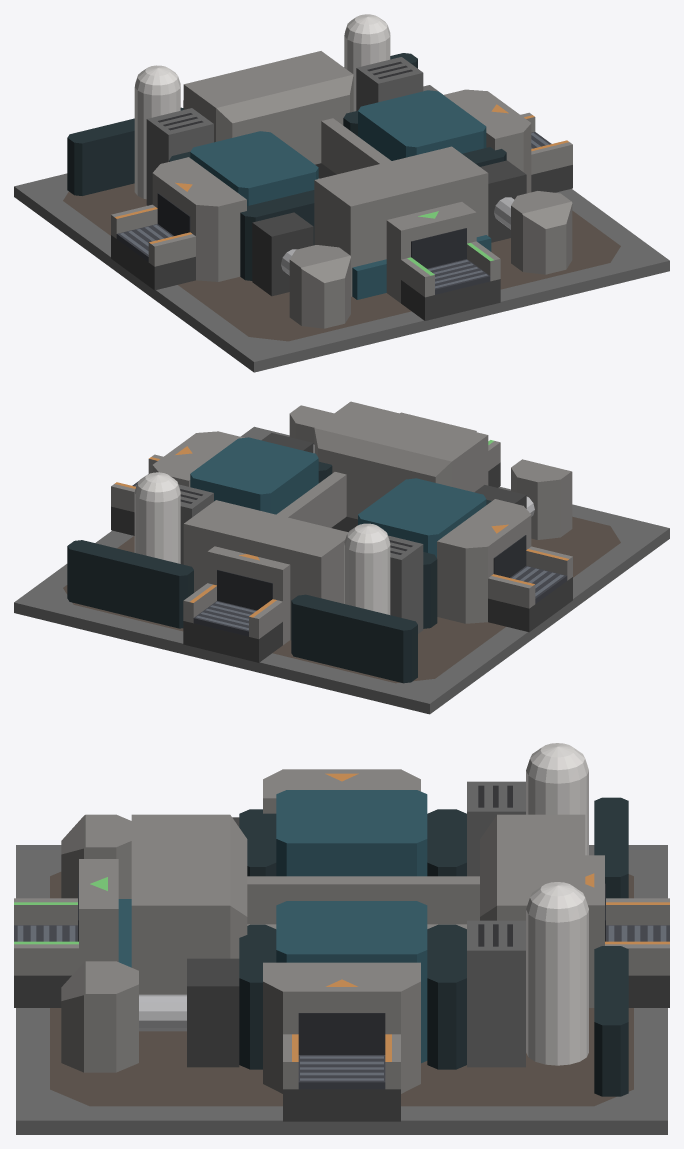
File: vfef_machining_bay.obj
3 renders of one model, top to bottom at view 1: azimuth 30°, elevation 25°; view 2: azimuth 150°, elevation 25°; view 3: azimuth 270°, elevation 25°, orthographic. The views are drawn at different scales.
Visible parts, largest first — view 1: vfef_machining_bay_0, vfef_machining_bay_16, vfef_machining_bay_5, vfef_machining_bay_1, vfef_machining_bay_31, vfef_machining_bay_48, vfef_machining_bay_28, vfef_machining_bay_47, vfef_machining_bay_67, vfef_machining_bay_44, vfef_machining_bay_18, vfef_machining_bay_45 (+23 smaller); view 2: vfef_machining_bay_0, vfef_machining_bay_16, vfef_machining_bay_5, vfef_machining_bay_44, vfef_machining_bay_64, vfef_machining_bay_31, vfef_machining_bay_48, vfef_machining_bay_1, vfef_machining_bay_28, vfef_machining_bay_43, vfef_machining_bay_63, vfef_machining_bay_47 (+22 smaller); view 3: vfef_machining_bay_0, vfef_machining_bay_1, vfef_machining_bay_16, vfef_machining_bay_28, vfef_machining_bay_51, vfef_machining_bay_63, vfef_machining_bay_48, vfef_machining_bay_5, vfef_machining_bay_61, vfef_machining_bay_67, vfef_machining_bay_3, vfef_machining_bay_65 (+30 smaller).
Part boxes in pixels (x1=…): vfef_machining_bay_0: x1=14, y1=85, x2=669, y2=372; vfef_machining_bay_16: x1=314, y1=146, x2=488, y2=296; vfef_machining_bay_5: x1=183, y1=51, x2=353, y2=164; vfef_machining_bay_1: x1=63, y1=183, x2=620, y2=341; vfef_machining_bay_31: x1=152, y1=157, x2=246, y2=281; vfef_machining_bay_48: x1=358, y1=90, x2=486, y2=160; vfef_machining_bay_28: x1=190, y1=131, x2=318, y2=205; vfef_machining_bay_47: x1=289, y1=245, x2=350, y2=328; vfef_machining_bay_67: x1=511, y1=191, x2=572, y2=274; vfef_machining_bay_44: x1=67, y1=107, x2=183, y2=195; vfef_machining_bay_18: x1=386, y1=202, x2=476, y2=302; vfef_machining_bay_45: x1=252, y1=212, x2=313, y2=296; vfef_machining_bay_0: x1=14, y1=426, x2=669, y2=714; vfef_machining_bay_16: x1=314, y1=401, x2=488, y2=519; vfef_machining_bay_5: x1=183, y1=500, x2=347, y2=640; vfef_machining_bay_44: x1=291, y1=594, x2=417, y2=683; vfef_machining_bay_64: x1=67, y1=540, x2=193, y2=628; vfef_machining_bay_31: x1=437, y1=499, x2=531, y2=623; vfef_machining_bay_48: x1=190, y1=437, x2=318, y2=514; vfef_machining_bay_1: x1=63, y1=516, x2=620, y2=683; vfef_machining_bay_28: x1=358, y1=478, x2=486, y2=557; vfef_machining_bay_43: x1=344, y1=523, x2=390, y2=614; vfef_machining_bay_63: x1=134, y1=472, x2=180, y2=563; vfef_machining_bay_47: x1=511, y1=459, x2=572, y2=539; vfef_machining_bay_0: x1=16, y1=845, x2=667, y2=1134; vfef_machining_bay_1: x1=50, y1=872, x2=633, y2=1106; vfef_machining_bay_16: x1=131, y1=814, x2=247, y2=994; vfef_machining_bay_28: x1=276, y1=790, x2=427, y2=876; vfef_machining_bay_51: x1=263, y1=962, x2=420, y2=1093; vfef_machining_bay_63: x1=526, y1=882, x2=588, y2=1065; vfef_machining_bay_48: x1=276, y1=901, x2=427, y2=1063; vfef_machining_bay_5: x1=480, y1=814, x2=585, y2=920; vfef_machining_bay_61: x1=467, y1=920, x2=525, y2=1067; vfef_machining_bay_67: x1=61, y1=961, x2=138, y2=1072; vfef_machining_bay_3: x1=247, y1=876, x2=479, y2=924; vfef_machining_bay_65: x1=187, y1=958, x2=239, y2=1067.
Size of the model in its own units: 4.99 by 1.52 by 4.99.
